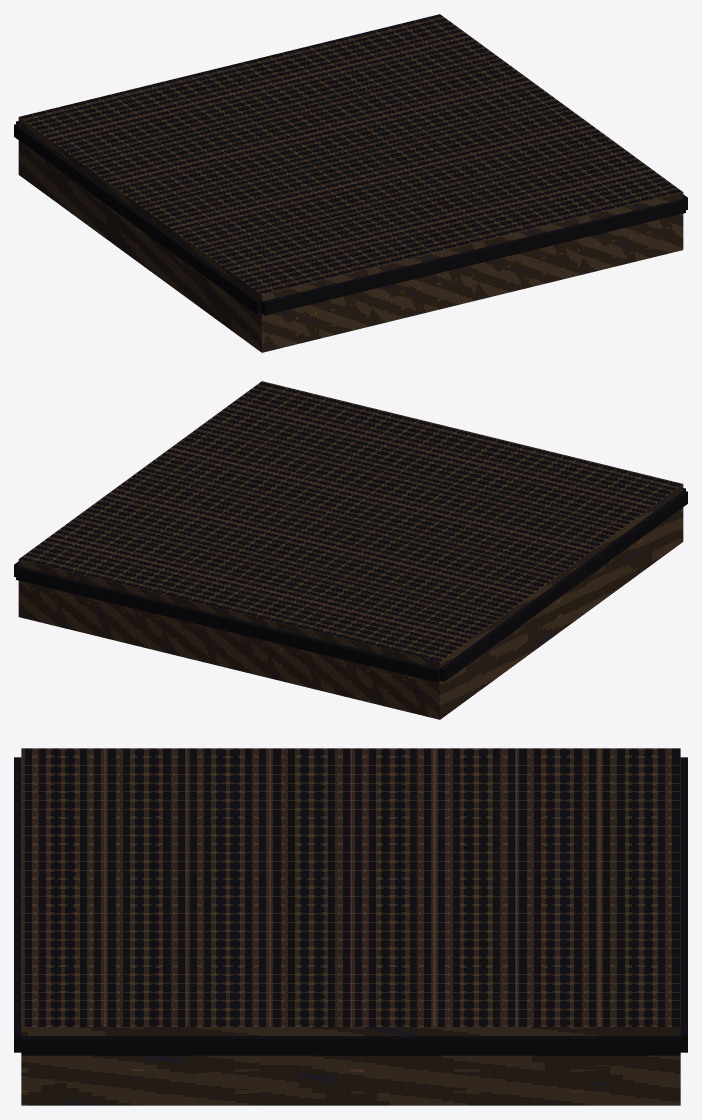
Rendered from PLA-02_Muelle_flotante_a.gltf.
3 renders of one model, top to bottom at view 1: azimuth 30°, elevation 25°; view 2: azimuth 150°, elevation 25°; view 3: azimuth 270°, elevation 25°, orthographic. The views are drawn at different scales.
Visible parts, largest first — view 1: PLA-02_Muelle_flotante_a-col; view 2: PLA-02_Muelle_flotante_a-col; view 3: PLA-02_Muelle_flotante_a-col.
Boxes of the visible parts, left/top/right/bottom form: PLA-02_Muelle_flotante_a-col: left=14, top=14, right=687, bottom=352; PLA-02_Muelle_flotante_a-col: left=14, top=381, right=687, bottom=719; PLA-02_Muelle_flotante_a-col: left=14, top=748, right=687, bottom=1105.
Size of the model in its own units: 8.18 by 1.05 by 8.18.
1 material, 1 textured.
